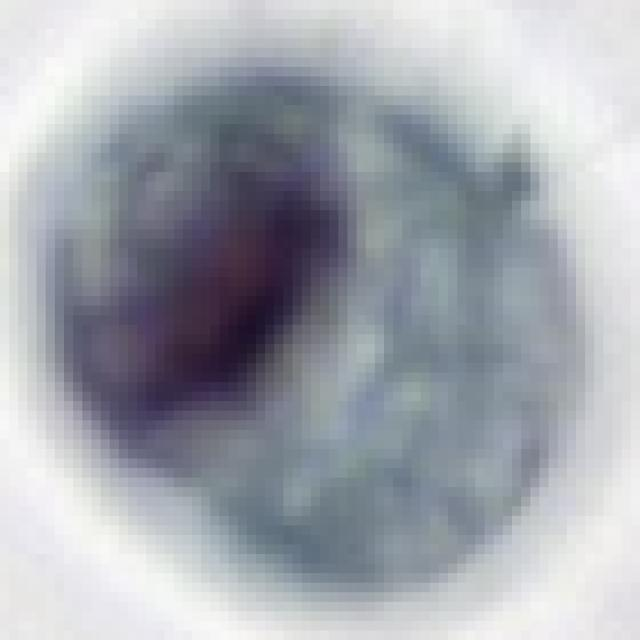nucleus: (49, 99, 409, 490)
